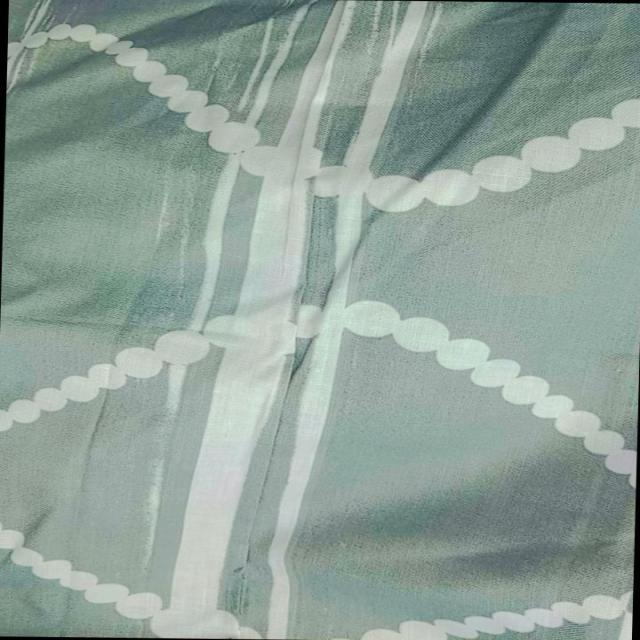selvet: (186, 6, 430, 339), (121, 337, 345, 639)
